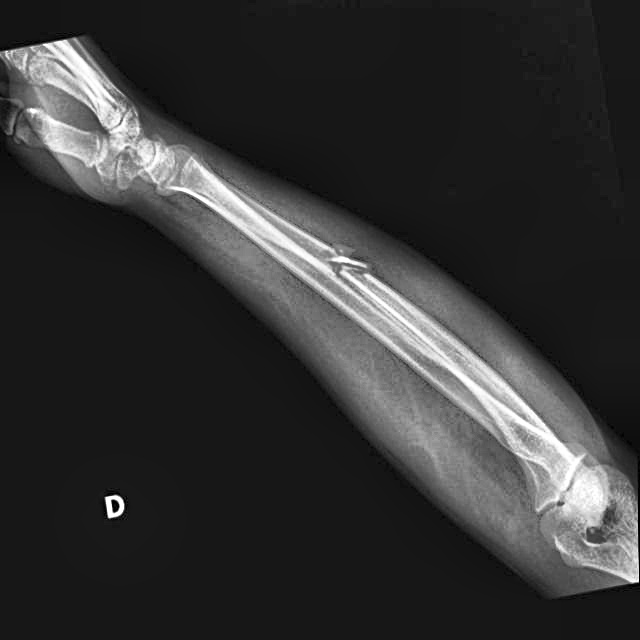Greenstick: (317, 233, 387, 302)
